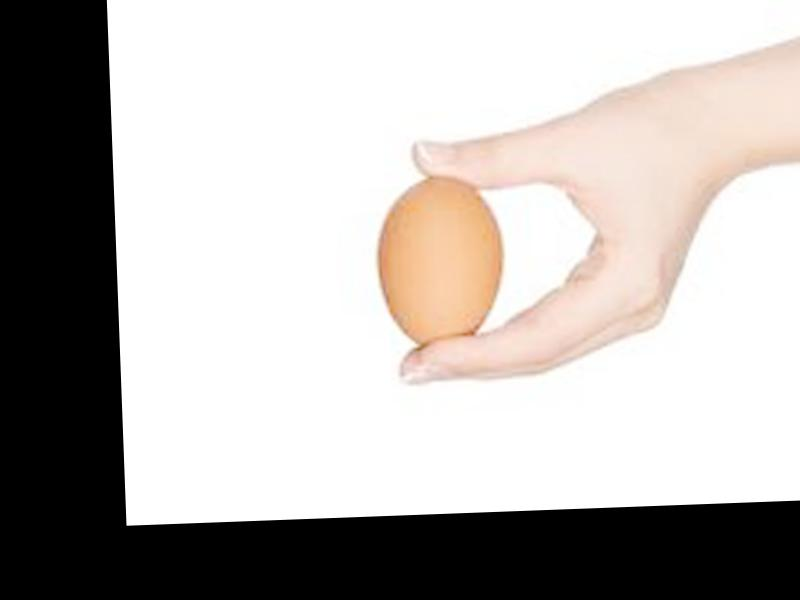Eggs: (374, 173, 504, 357)
